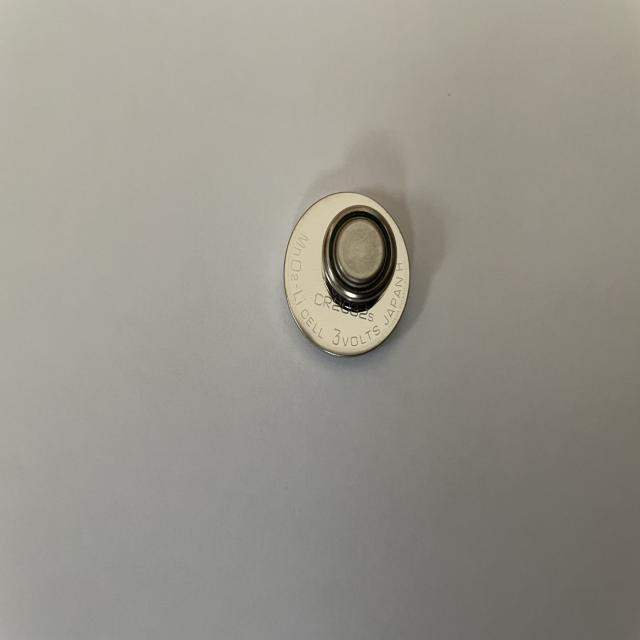COIN: (281, 192, 416, 360), (321, 207, 398, 310)
